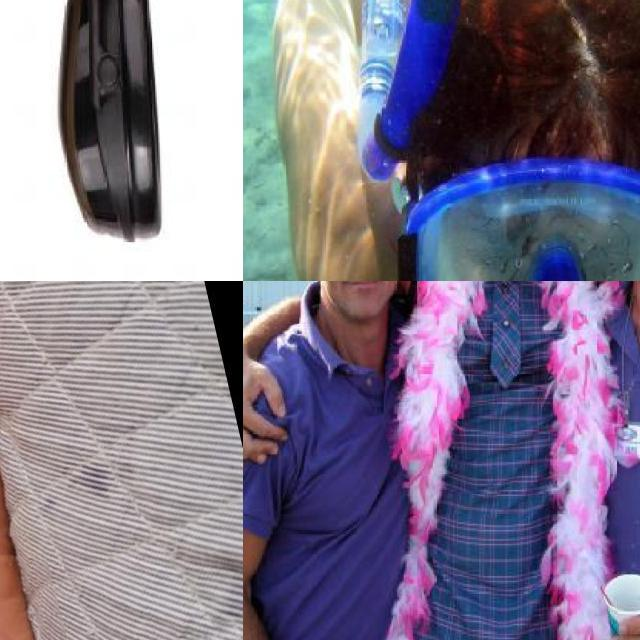Barefoots: (0, 294, 56, 640)
Ear-protection: (50, 0, 243, 231)
face_nomask: (442, 208, 640, 281)
glasses: (395, 153, 640, 281)
hand_noglove: (243, 353, 290, 470), (615, 581, 640, 640)
head_nohelmet: (410, 0, 640, 229)
person: (386, 281, 611, 640), (243, 281, 428, 640)
